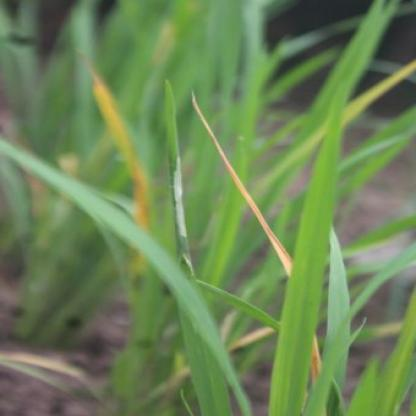Tungro: (84, 81, 167, 238)
